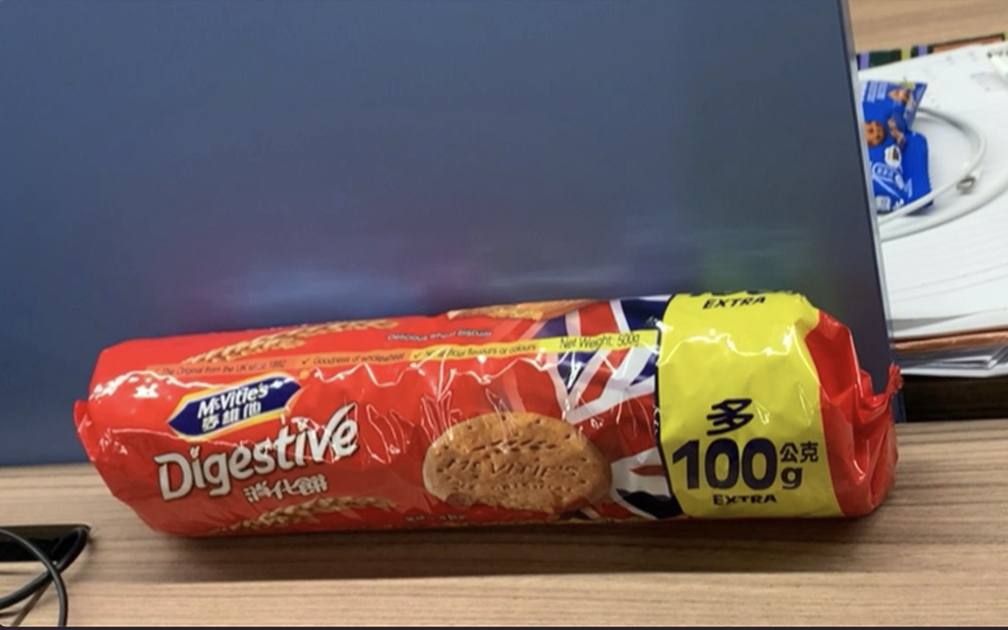cookies_550g: (150, 350, 824, 505)
